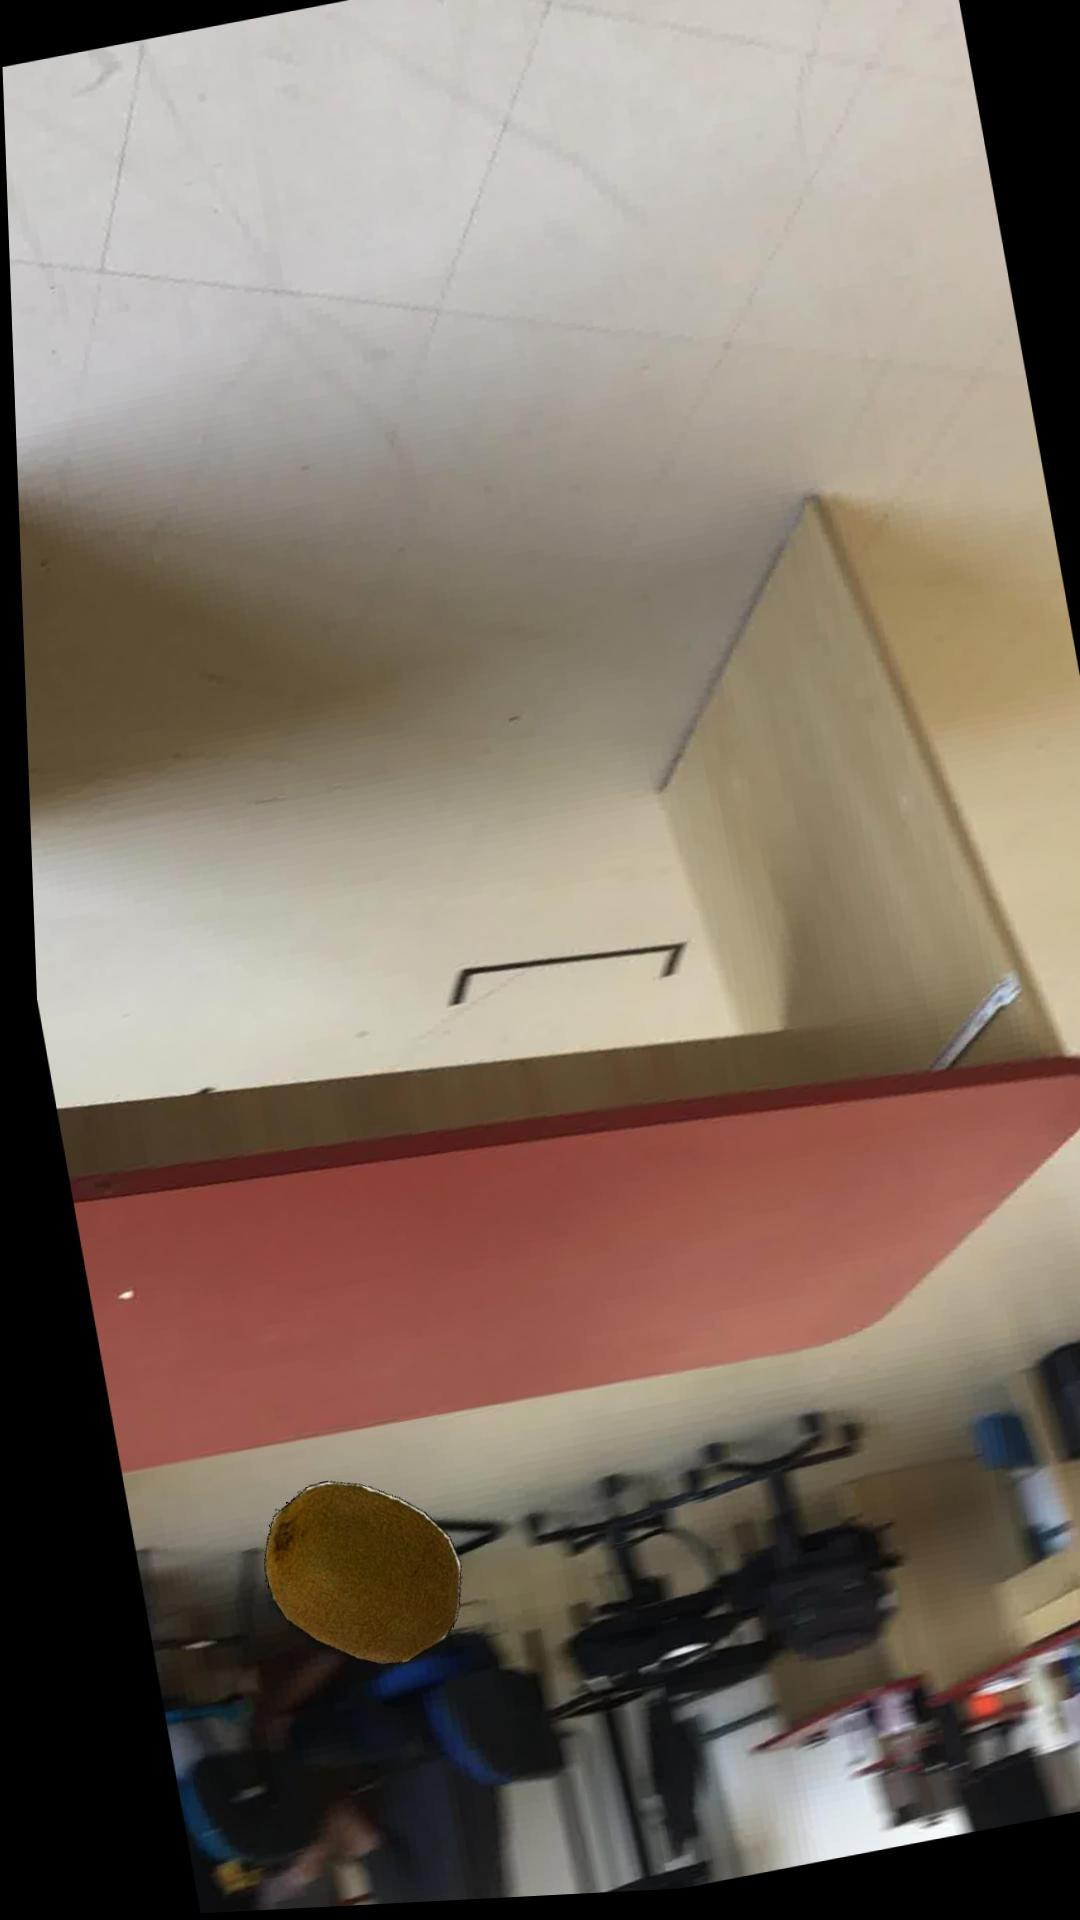kiwi: (253, 1485, 451, 1669)
